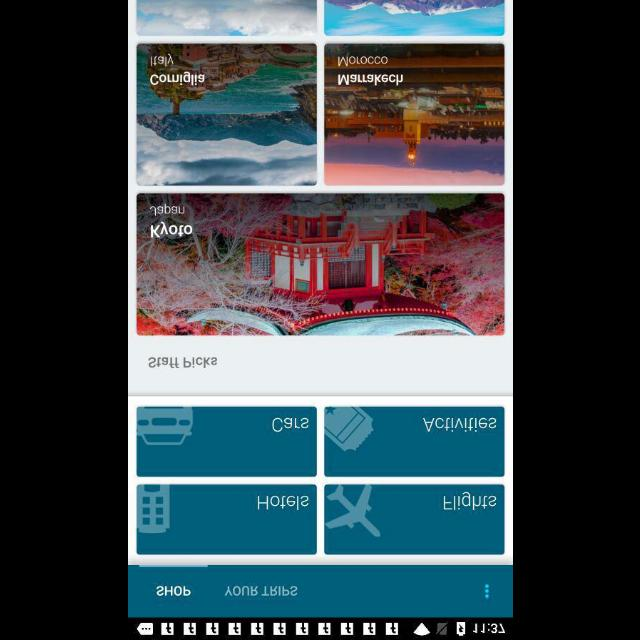icon: (483, 583, 489, 599)
image: (136, 193, 504, 335), (136, 44, 318, 186), (323, 44, 504, 186), (323, 0, 503, 36), (136, 0, 316, 36), (324, 484, 381, 536), (324, 406, 374, 452), (136, 406, 192, 446), (137, 484, 169, 532)
panel: (136, 405, 316, 477), (323, 484, 504, 554), (322, 406, 503, 476), (136, 484, 316, 554)
text: (422, 417, 496, 431), (442, 492, 496, 511), (225, 584, 298, 596), (150, 70, 204, 86), (257, 494, 309, 510), (148, 356, 216, 368), (338, 74, 402, 86), (150, 220, 192, 238), (272, 418, 308, 432), (338, 56, 387, 66), (150, 204, 184, 216), (156, 584, 190, 596), (150, 54, 173, 66)
uppertaskbar: (128, 617, 512, 639)
